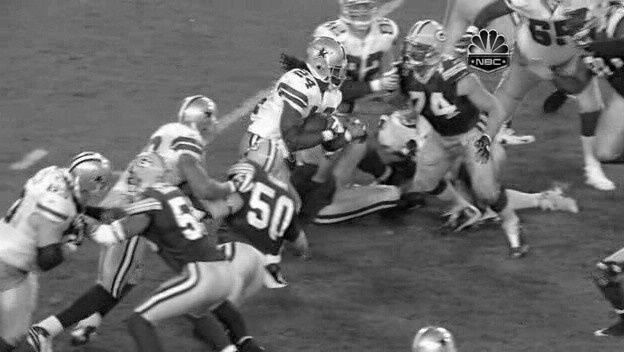person: (313, 41, 347, 85), (312, 41, 346, 85), (314, 41, 348, 85), (313, 40, 347, 84), (313, 42, 347, 86)
target_negative: (399, 14, 507, 330), (103, 232, 553, 306), (525, 48, 606, 288), (131, 218, 339, 310), (540, 92, 551, 251), (510, 300, 563, 330)
